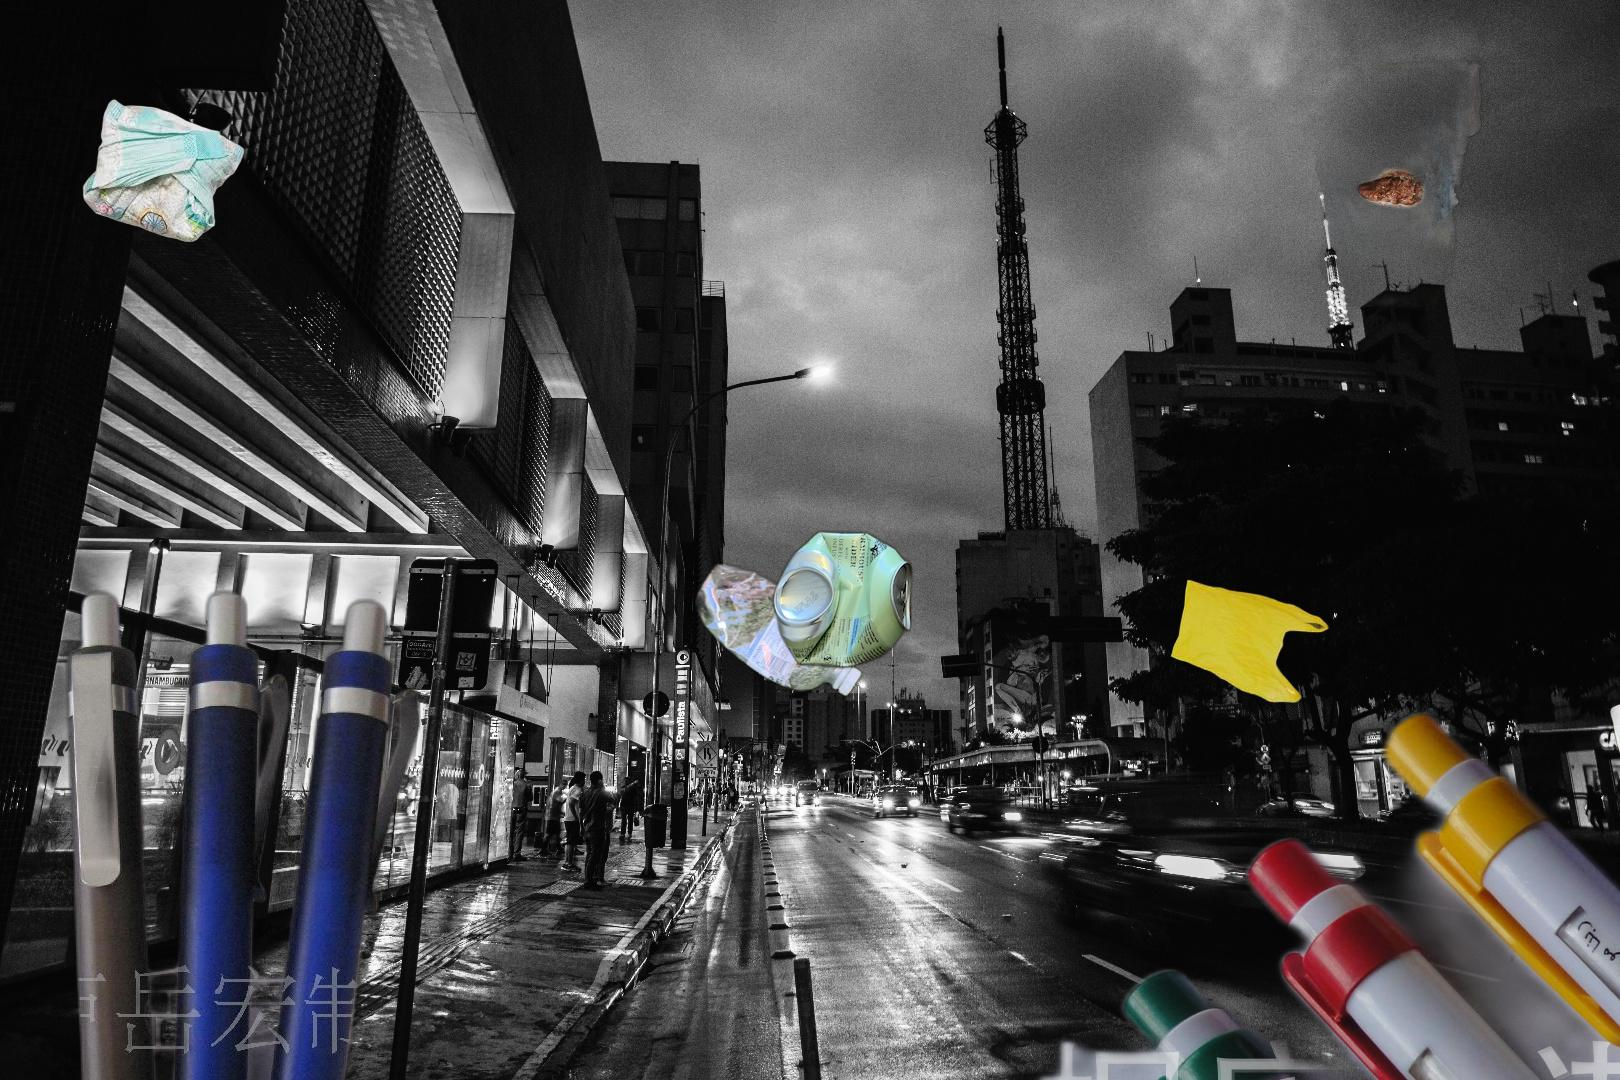metal-cans: (769, 526, 917, 674)
penholder: (886, 699, 1620, 1080), (59, 582, 427, 1080)
plastic-bag: (1167, 577, 1332, 706), (1607, 651, 1620, 816)
plastic-bottles: (689, 557, 865, 703)
trash: (1296, 46, 1489, 307), (80, 96, 247, 245)
